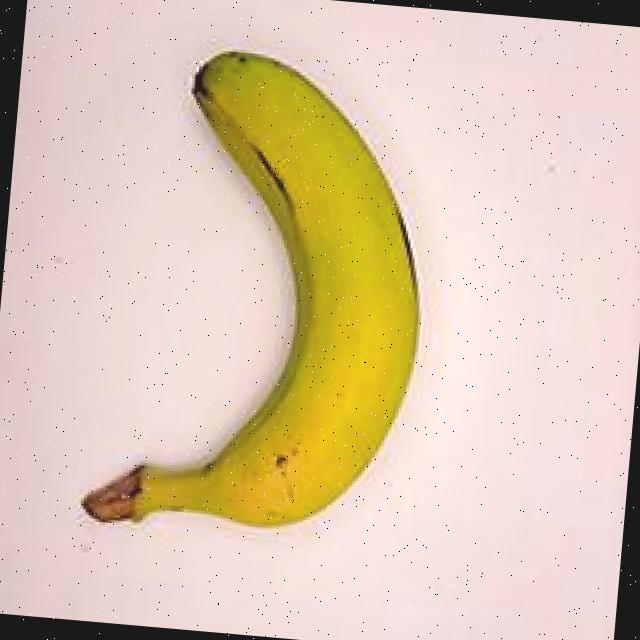Unripe: (19, 3, 490, 587)
